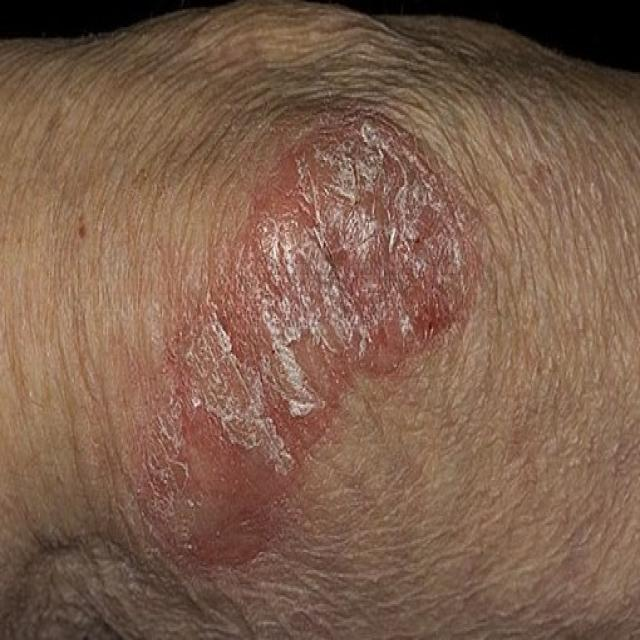Psoriasis Vulgar: (0, 2, 639, 638)
